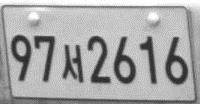1: (138, 35, 158, 84)
2: (86, 34, 111, 84)
6: (113, 35, 137, 84), (164, 35, 188, 84)
7: (33, 35, 55, 82)
9: (10, 33, 32, 81)
서: (61, 43, 85, 83)
